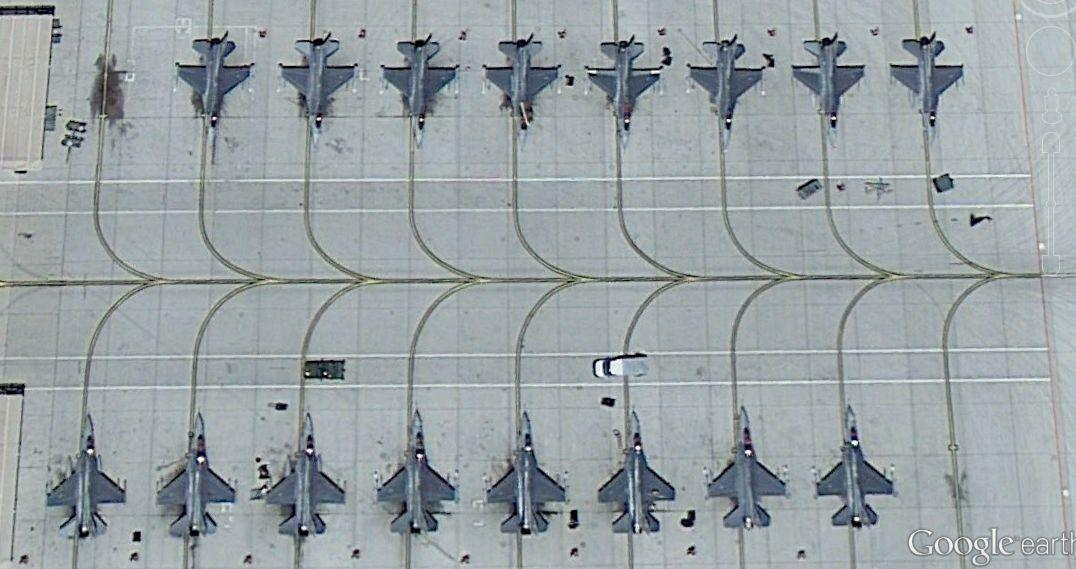F-16: (373, 409, 460, 538), (45, 413, 129, 541), (483, 411, 570, 533), (267, 414, 350, 540), (708, 404, 791, 530), (813, 403, 897, 526), (596, 408, 676, 536), (478, 34, 563, 150), (160, 414, 237, 540), (684, 36, 764, 154), (579, 37, 663, 149), (168, 35, 252, 144), (275, 36, 355, 144), (380, 38, 456, 147), (884, 34, 966, 134), (793, 32, 868, 137)
